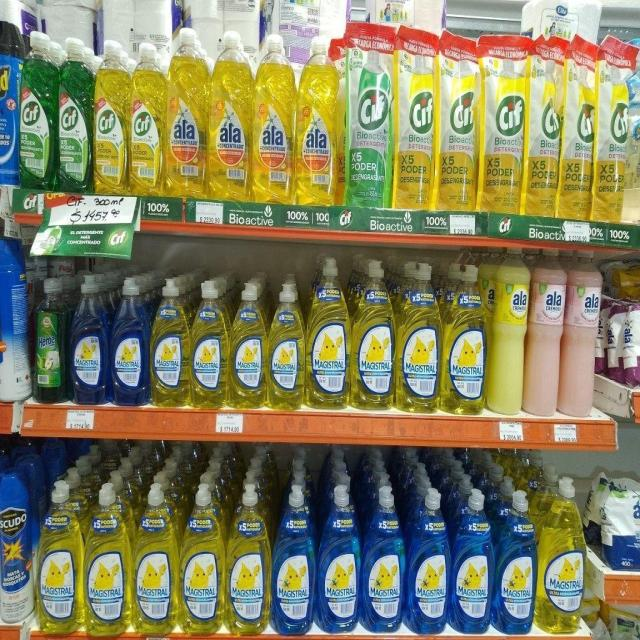ala_conc_amarillo: (164, 22, 207, 197), (295, 38, 339, 206), (252, 30, 294, 206), (208, 28, 250, 200)
ala_crem_amarillo: (490, 251, 528, 418)
ala_crem_rosado: (562, 247, 602, 418), (527, 247, 562, 417)
cif_conc_bot_amarilla: (94, 37, 128, 195), (129, 41, 163, 195)
cif_conc_botella_verde: (56, 34, 92, 193), (20, 28, 54, 190)
cif_conc_sachet_amarillo: (480, 34, 524, 214), (436, 34, 478, 212), (394, 28, 434, 210), (594, 40, 628, 221), (560, 39, 594, 220), (525, 38, 559, 218), (628, 52, 640, 201)
cif_conc_sachet_verde: (346, 28, 392, 208)
heroe: (36, 278, 68, 401)
magistral_con_amarillo: (538, 475, 585, 635), (84, 481, 130, 637), (133, 482, 178, 636), (38, 480, 82, 635), (226, 480, 270, 635), (180, 481, 224, 635), (397, 260, 441, 413), (307, 255, 350, 410), (443, 261, 486, 415), (352, 257, 394, 411), (150, 276, 190, 408), (268, 280, 305, 410), (192, 278, 228, 409), (230, 280, 266, 409)
magistral_con_azul: (272, 482, 316, 636), (318, 480, 361, 634), (362, 484, 404, 633), (408, 487, 450, 635), (452, 487, 493, 635), (496, 487, 536, 634), (70, 274, 108, 406), (111, 276, 148, 406)
